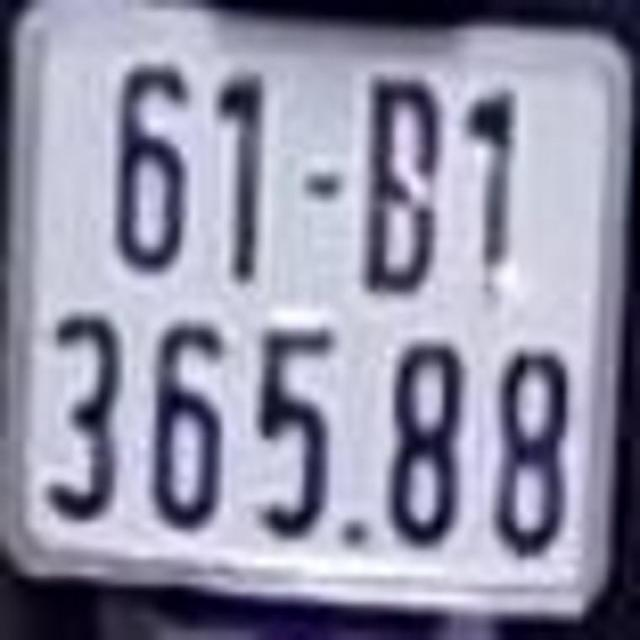1: (458, 78, 524, 302), (210, 60, 270, 284)
3: (46, 308, 125, 524)
5: (251, 318, 335, 540)
6: (140, 309, 230, 530), (108, 54, 194, 280)
8: (380, 332, 464, 550), (492, 338, 570, 559)
B: (360, 65, 443, 298)
